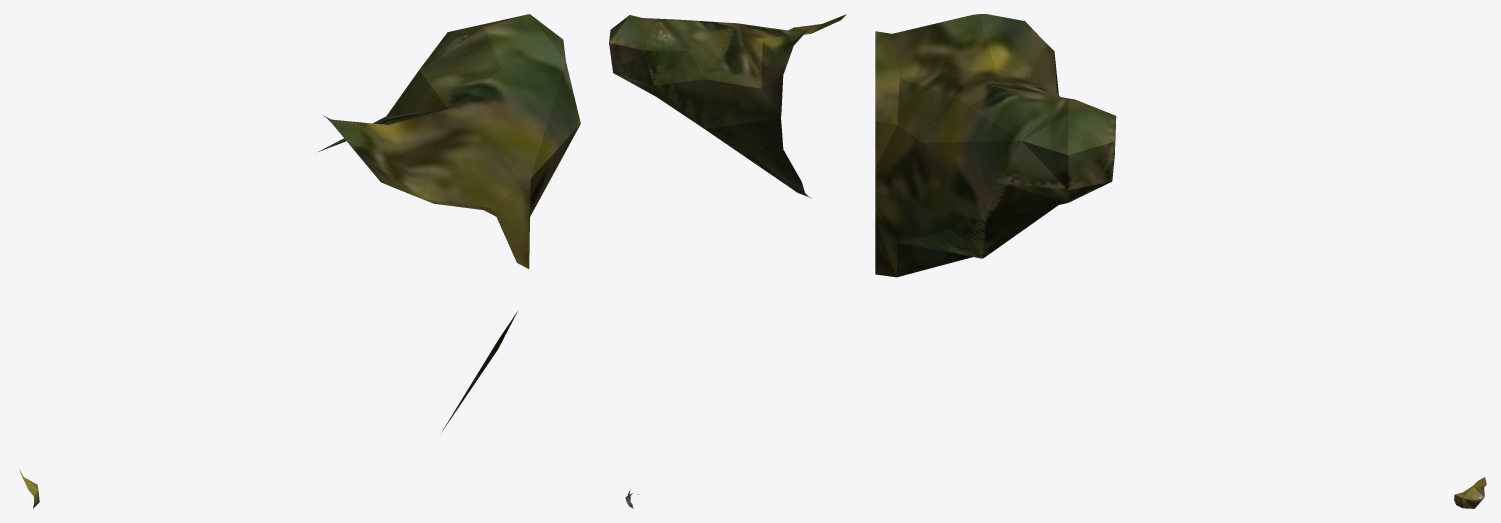
3 renders of one model, left to right at view 1: azimuth 30°, elevation 25°; view 2: azimuth 150°, elevation 25°; view 3: azimuth 270°, elevation 25°, orthographic. The views are drawn at different scales.
Bounding box in the file's own units: 0.2751 × 0.5517 × 0.617.
1 material, 1 textured.
